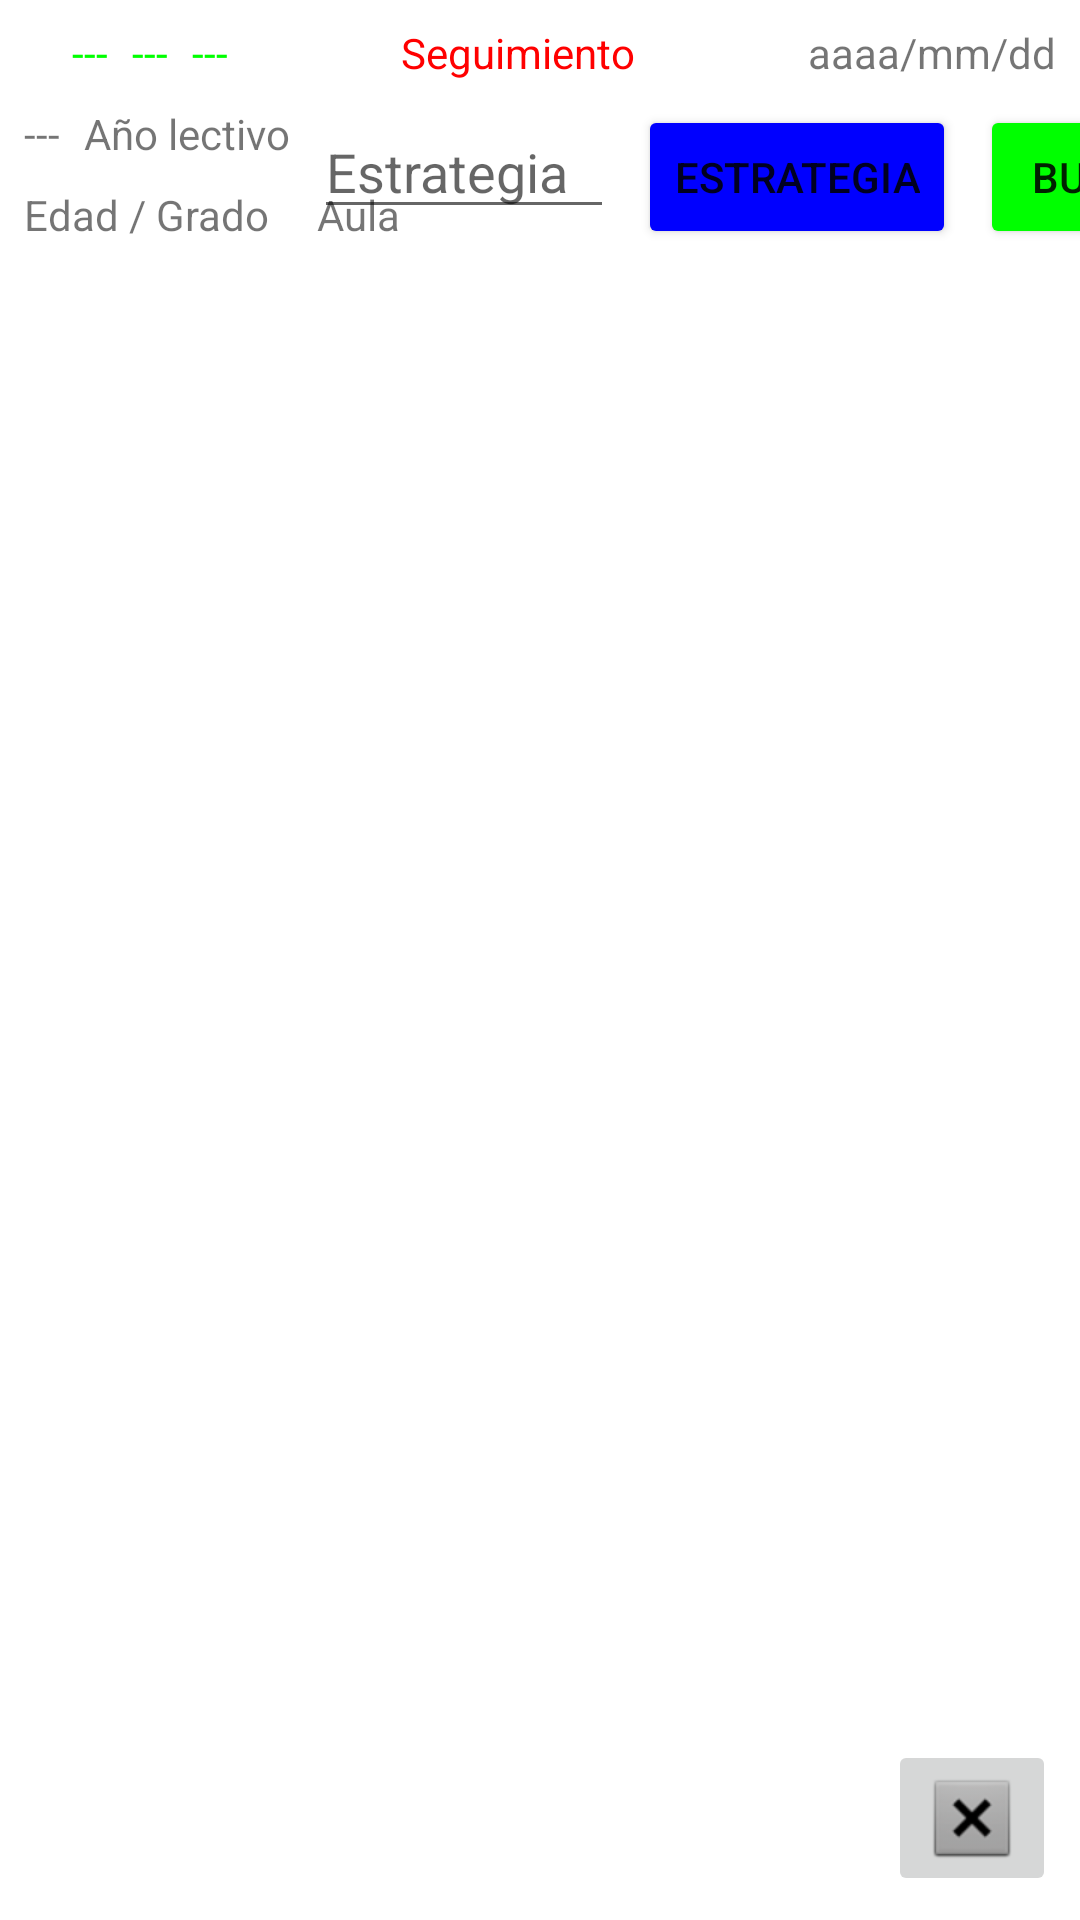

Screen size 1080 × 1920. Icon name, then its box in pixels as (x1, y1, x2, y2):
Salir: (900, 1758, 1044, 1878)
